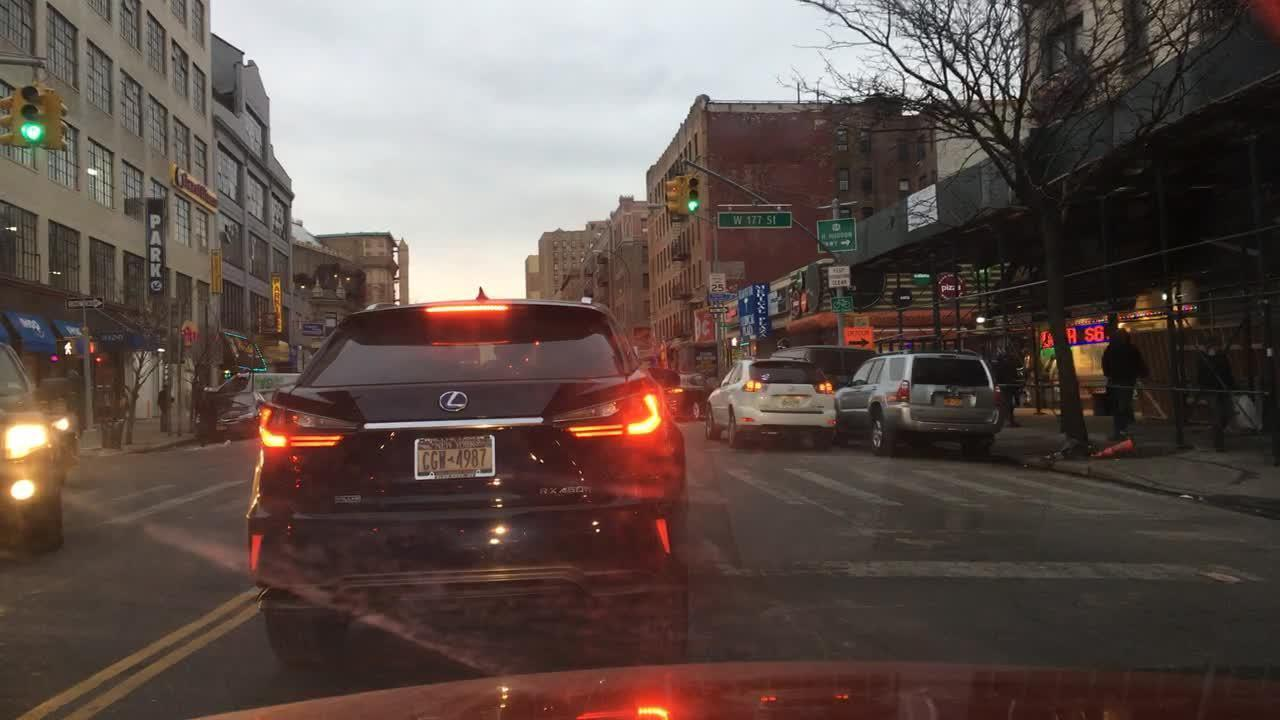lexus: (435, 384, 470, 416)
